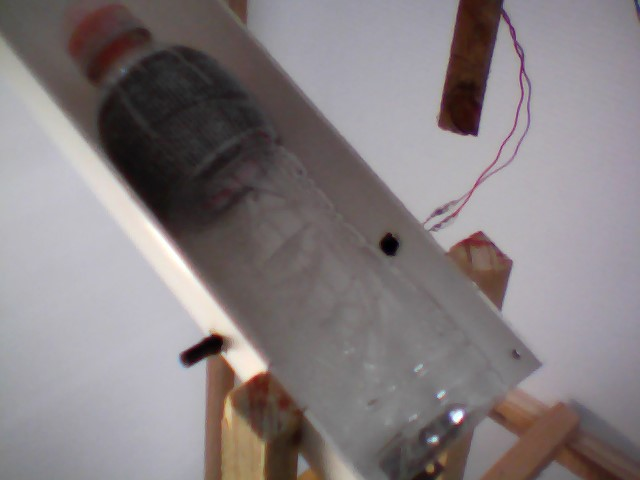plastico: (56, 1, 512, 480)
